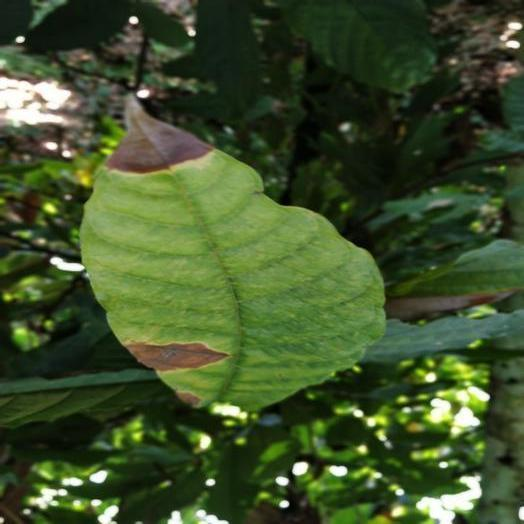Potassium: (81, 99, 382, 409)
